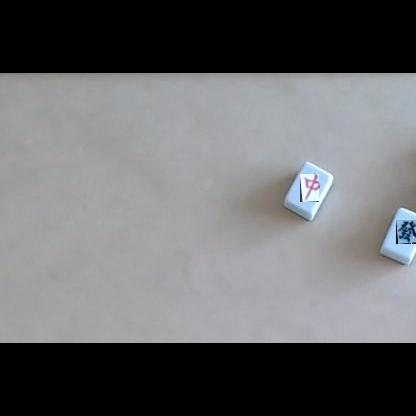6z: (396, 220, 416, 244)
7z: (300, 174, 319, 202)
